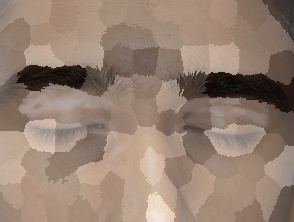vitiligo: (151, 56, 294, 203), (0, 62, 123, 171)
